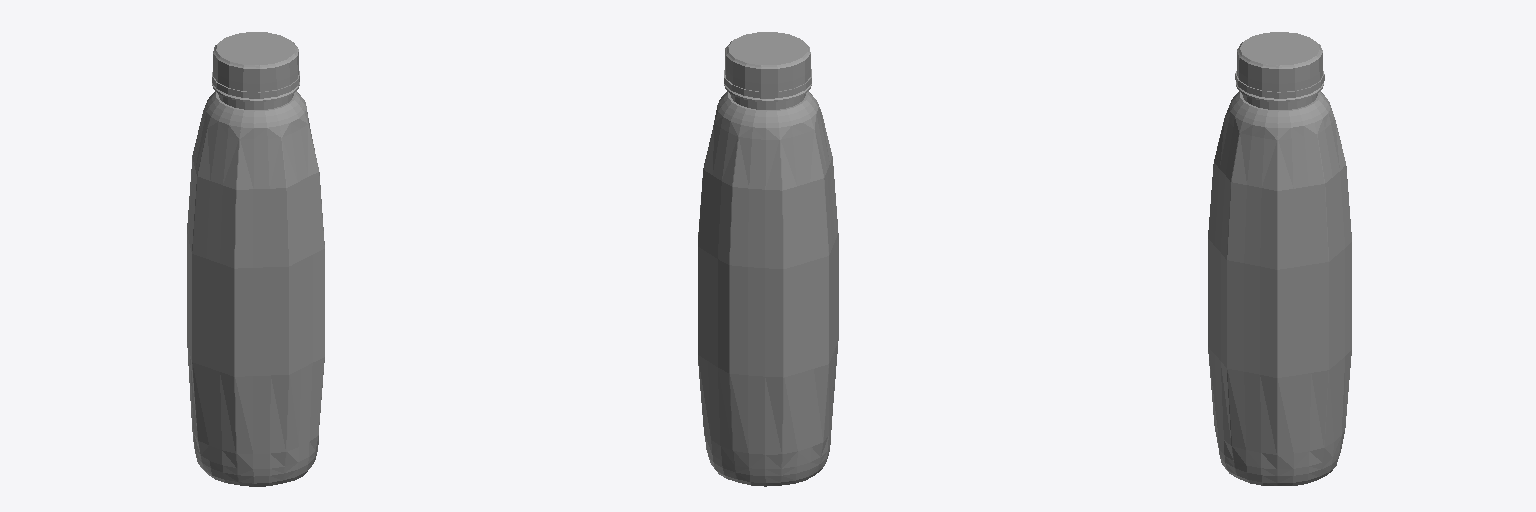
The model's file is bottle-global.obj.
3 views of the same model, side by side, from view 1: azimuth 30°, elevation 25°; view 2: azimuth 150°, elevation 25°; view 3: azimuth 270°, elevation 25° (orthographic).
Visible parts, largest first — view 1: polySurface1_group1, group1_polySurface8, group1_polySurface10; view 2: polySurface1_group1, group1_polySurface8, group1_polySurface10; view 3: polySurface1_group1, group1_polySurface8, group1_polySurface10.
Part boxes in pixels (bbox=[...]): polySurface1_group1: bbox=[187, 93, 324, 483]; group1_polySurface8: bbox=[212, 32, 299, 98]; group1_polySurface10: bbox=[200, 82, 307, 486]; polySurface1_group1: bbox=[698, 93, 838, 482]; group1_polySurface8: bbox=[724, 32, 811, 98]; group1_polySurface10: bbox=[717, 84, 822, 486]; polySurface1_group1: bbox=[1208, 92, 1351, 482]; group1_polySurface8: bbox=[1235, 32, 1324, 98]; group1_polySurface10: bbox=[1225, 82, 1332, 485].
Size of the model in its own units: 3.97 by 12.59 by 3.97.